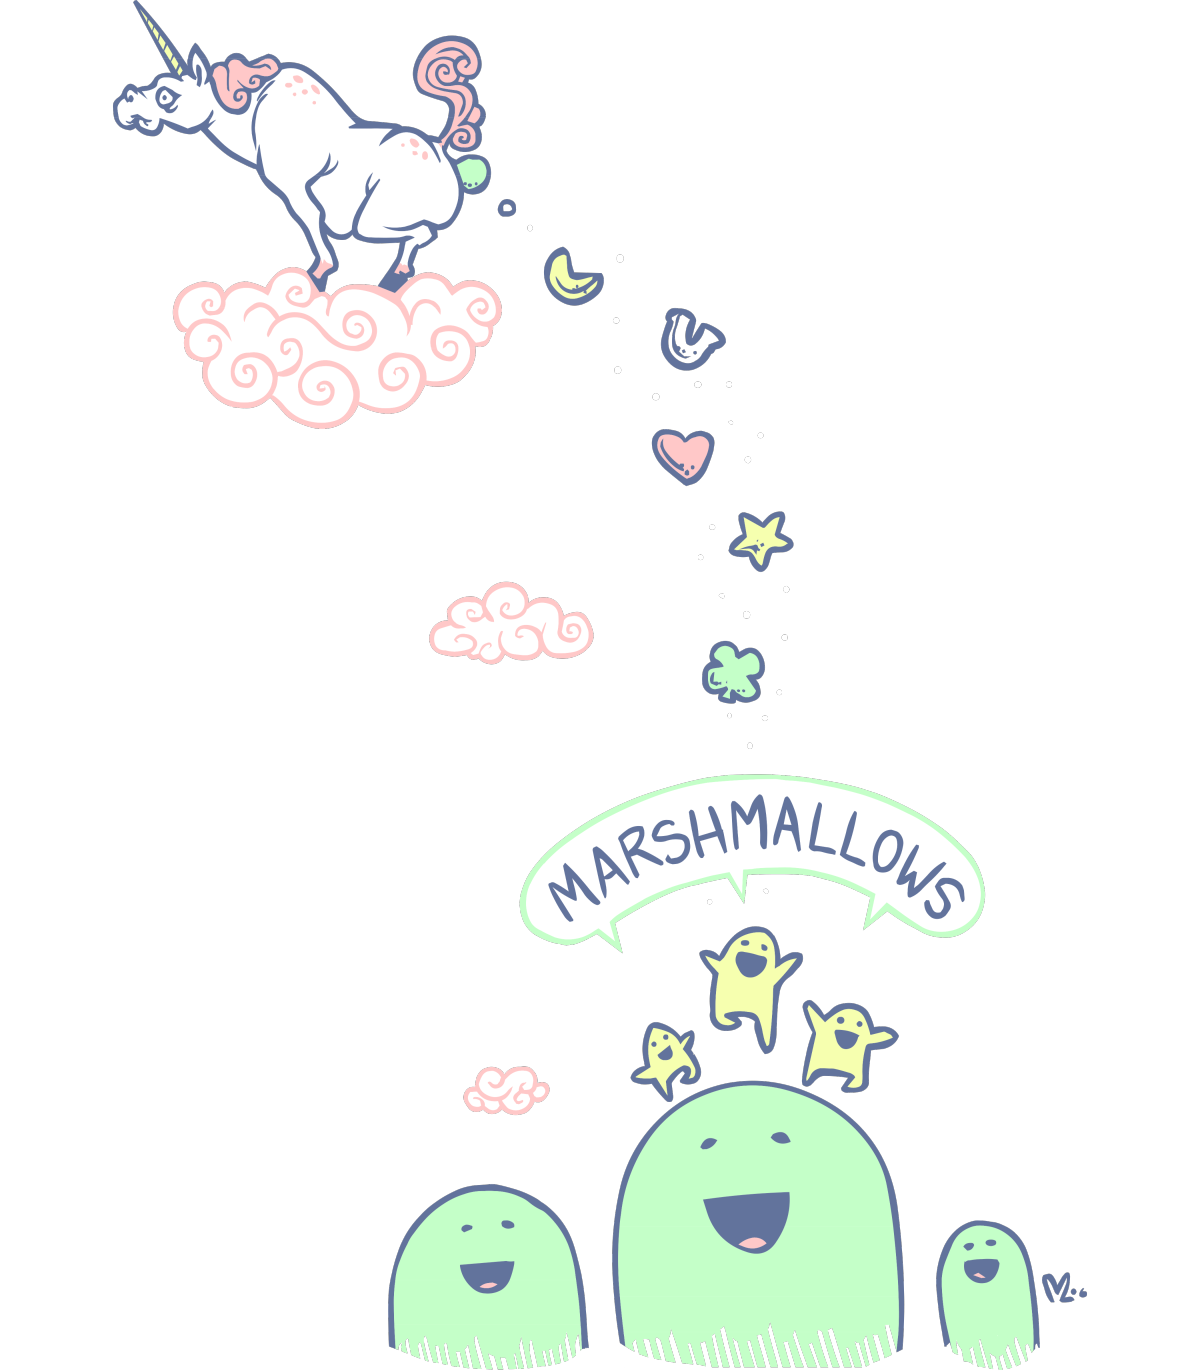design: (82, 1, 1130, 1371)
